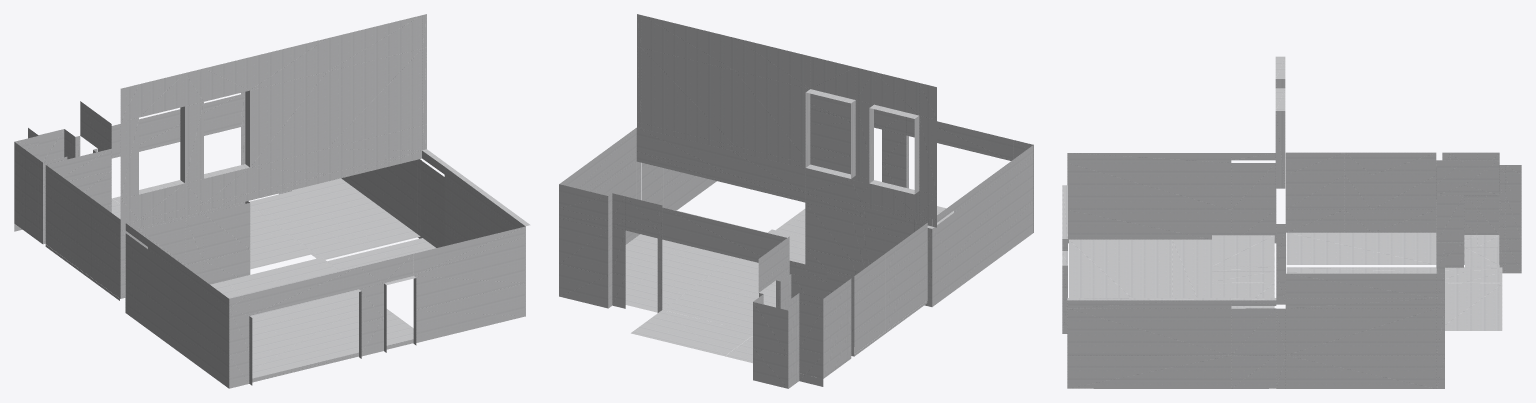
The picture shows the model from 3 angles, left to right: view 1: azimuth 30°, elevation 25°; view 2: azimuth 150°, elevation 25°; view 3: azimuth 270°, elevation 25°; orthographic projection. The views are drawn at different scales.
Parts seen in each view (by area): view 1: Hover_Muro_C_Ext_Patio_Arriba_MT_Hover_Muro_C_Ext_Patio_Arri, Hover_Muro_C_Ext_Patio_Atras_UVa_MT_Hover_Muro_C_Ext_Patio_A, Hover_Muro_C_Ext_Patio_Izq_UVa_MT_Hover_Muro_C_Ext_Patio_Izq, Hover_Piso_C_Ext_Cochera_UVb_MT_Hover_Piso_C_Ext_Cochera_UVb, Hover_Piso_C_Int_Sala_UVb_MT_Hover_Piso_C_Int_Sala_UVb_0, Hover_Muro_C_Int_Cocina_Front_UVa_MT_Hover_Muro_C_Int_Cocina, Hover_Muro_C_Ext_Patio_Der_UVa_MT_Hover_Muro_C_Ext_Patio_Der, Hover_Muro_C_Ext_Patio_Front_UVa_MT_Hover_Muro_C_Ext_Patio_F, Hover_Piso_C_Ext_Pasillo_UVb_MT_Hover_Piso_C_Ext_Pasillo_UVb, Hover_Muro_C_Int_Sala_Der_UVa_MT_Hover_Muro_C_Int_Sala_Der_U, Hover_Muro_C_Int_Comedor_Front_UVa_MT_Hover_Muro_C_Int_Comed, Hover_Piso_C_Int_Banio2_UVb_MT_Hover_Piso_C_Int_Banio2_UVb_0 (+5 smaller); view 2: Hover_Muro_C_Ext_Patio_Arriba_MT_Hover_Muro_C_Ext_Patio_Arri, Hover_Muro_C_Int_Comedor_Atras_UVa_MT_Hover_Muro_C_Int_Comed, Hover_Muro_C_Ext_Patio_Izq_UVa_MT_Hover_Muro_C_Ext_Patio_Izq, Hover_Muro_C_Ext_Patio_Atras_UVa_MT_Hover_Muro_C_Ext_Patio_A, Hover_Muro_C_Int_Cocina_Front_UVa_MT_Hover_Muro_C_Int_Cocina, Hover_Muro_C_Int_Sala_Front_UVa_MT_Hover_Muro_C_Int_Sala_Fro, Hover_Piso_C_Int_Sala_UVb_MT_Hover_Piso_C_Int_Sala_UVb_0, Hover_Piso_C_Int_Comedor_UVb_MT_Hover_Piso_C_Int_Comedor_UVb, Hover_Muro_C_Int_Sala_Front2_UVa_MT_Hover_Muro_C_Int_Sala_Fr, Hover_Muro_C_Int_Comedor_Front_UVa_MT_Hover_Muro_C_Int_Comed, Hover_Muro_C_Int_Sala_Der_UVa_MT_Hover_Muro_C_Int_Sala_Der_U, Hover_Muro_C_Int_Banio_Der2_UVa_MT_Hover_Muro_C_Int_Banio_De (+11 smaller); view 3: Hover_Muro_C_Int_Sala_Der_UVa_MT_Hover_Muro_C_Int_Sala_Der_U, Hover_Muro_C_Ext_Patio_Der_UVa_MT_Hover_Muro_C_Ext_Patio_Der, Hover_Muro_C_Ext_Patio_Izq_UVa_MT_Hover_Muro_C_Ext_Patio_Izq, Hover_Muro_C_Int_Cocina_Front_UVa_MT_Hover_Muro_C_Int_Cocina, Hover_Piso_C_Ext_Cochera_UVb_MT_Hover_Piso_C_Ext_Cochera_UVb, Hover_Piso_C_Int_Cocina_UVb_MT_Hover_Piso_C_Int_Cocina_UVb_0, Hover_Muro_C_Int_Pasillo_Izq_UVa_MT_Hover_Muro_C_Int_Pasillo, Hover_Piso_C_Ext_Pasillo_UVb_MT_Hover_Piso_C_Ext_Pasillo_UVb, Hover_Piso_C_Ext_Terraza_UVb_MT_Hover_Piso_C_Ext_Terraza_UVb, Hover_Piso_C_Int_Banio2_UVb_MT_Hover_Piso_C_Int_Banio2_UVb_0, Hover_Piso_C_Int_Comedor_UVb_MT_Hover_Piso_C_Int_Comedor_UVb, Hover_Muro_C_Int_Banio_Der_UVa_MT_Hover_Muro_C_Int_Banio_Der (+5 smaller).
Boxes of the visible parts, <box> form: Hover_Muro_C_Ext_Patio_Arriba_MT_Hover_Muro_C_Ext_Patio_Arri: <box>120,14,426,231</box>; Hover_Muro_C_Ext_Patio_Atras_UVa_MT_Hover_Muro_C_Ext_Patio_A: <box>229,226,525,388</box>; Hover_Muro_C_Ext_Patio_Izq_UVa_MT_Hover_Muro_C_Ext_Patio_Izq: <box>125,223,229,388</box>; Hover_Piso_C_Ext_Cochera_UVb_MT_Hover_Piso_C_Ext_Cochera_UVb: <box>252,292,413,382</box>; Hover_Piso_C_Int_Sala_UVb_MT_Hover_Piso_C_Int_Sala_UVb_0: <box>249,178,420,259</box>; Hover_Muro_C_Int_Cocina_Front_UVa_MT_Hover_Muro_C_Int_Cocina: <box>45,165,120,298</box>; Hover_Muro_C_Ext_Patio_Der_UVa_MT_Hover_Muro_C_Ext_Patio_Der: <box>421,149,530,316</box>; Hover_Muro_C_Ext_Patio_Front_UVa_MT_Hover_Muro_C_Ext_Patio_F: <box>125,203,250,312</box>; Hover_Piso_C_Ext_Pasillo_UVb_MT_Hover_Piso_C_Ext_Pasillo_UVb: <box>210,238,436,298</box>; Hover_Muro_C_Int_Sala_Der_UVa_MT_Hover_Muro_C_Int_Sala_Der_U: <box>341,159,421,238</box>; Hover_Muro_C_Int_Comedor_Front_UVa_MT_Hover_Muro_C_Int_Comed: <box>111,94,240,158</box>; Hover_Piso_C_Int_Banio2_UVb_MT_Hover_Piso_C_Int_Banio2_UVb_0: <box>14,142,42,243</box>; Hover_Muro_C_Ext_Patio_Arriba_MT_Hover_Muro_C_Ext_Patio_Arri: <box>637,14,936,227</box>; Hover_Muro_C_Int_Comedor_Atras_UVa_MT_Hover_Muro_C_Int_Comed: <box>636,127,862,275</box>; Hover_Muro_C_Ext_Patio_Izq_UVa_MT_Hover_Muro_C_Ext_Patio_Izq: <box>932,145,1033,306</box>; Hover_Muro_C_Ext_Patio_Atras_UVa_MT_Hover_Muro_C_Ext_Patio_A: <box>810,93,1033,232</box>; Hover_Muro_C_Int_Cocina_Front_UVa_MT_Hover_Muro_C_Int_Cocina: <box>854,223,927,353</box>; Hover_Muro_C_Int_Sala_Front_UVa_MT_Hover_Muro_C_Int_Sala_Fro: <box>559,184,608,308</box>; Hover_Piso_C_Int_Sala_UVb_MT_Hover_Piso_C_Int_Sala_UVb_0: <box>625,234,734,312</box>; Hover_Piso_C_Int_Comedor_UVb_MT_Hover_Piso_C_Int_Comedor_UVb: <box>663,257,775,363</box>; Hover_Muro_C_Int_Sala_Front2_UVa_MT_Hover_Muro_C_Int_Sala_Fr: <box>608,193,662,312</box>; Hover_Muro_C_Int_Comedor_Front_UVa_MT_Hover_Muro_C_Int_Comed: <box>662,207,786,262</box>; Hover_Muro_C_Int_Sala_Der_UVa_MT_Hover_Muro_C_Int_Sala_Der_U: <box>559,128,641,244</box>; Hover_Muro_C_Int_Banio_Der2_UVa_MT_Hover_Muro_C_Int_Banio_De: <box>788,293,823,388</box>; Hover_Muro_C_Int_Sala_Der_UVa_MT_Hover_Muro_C_Int_Sala_Der_U: <box>1276,273,1444,388</box>; Hover_Muro_C_Ext_Patio_Der_UVa_MT_Hover_Muro_C_Ext_Patio_Der: <box>1067,298,1276,388</box>; Hover_Muro_C_Ext_Patio_Izq_UVa_MT_Hover_Muro_C_Ext_Patio_Izq: <box>1067,153,1276,243</box>; Hover_Muro_C_Int_Cocina_Front_UVa_MT_Hover_Muro_C_Int_Cocina: <box>1285,152,1436,232</box>; Hover_Piso_C_Ext_Cochera_UVb_MT_Hover_Piso_C_Ext_Cochera_UVb: <box>1069,239,1211,297</box>; Hover_Piso_C_Int_Cocina_UVb_MT_Hover_Piso_C_Int_Cocina_UVb_0: <box>1286,232,1436,264</box>; Hover_Muro_C_Int_Pasillo_Izq_UVa_MT_Hover_Muro_C_Int_Pasillo: <box>1436,160,1499,267</box>; Hover_Piso_C_Ext_Pasillo_UVb_MT_Hover_Piso_C_Ext_Pasillo_UVb: <box>1212,235,1274,308</box>; Hover_Piso_C_Ext_Terraza_UVb_MT_Hover_Piso_C_Ext_Terraza_UVb: <box>1445,284,1502,330</box>; Hover_Piso_C_Int_Banio2_UVb_MT_Hover_Piso_C_Int_Banio2_UVb_0: <box>1442,152,1499,247</box>; Hover_Piso_C_Int_Comedor_UVb_MT_Hover_Piso_C_Int_Comedor_UVb: <box>1286,267,1502,283</box>; Hover_Muro_C_Int_Banio_Der_UVa_MT_Hover_Muro_C_Int_Banio_Der: <box>1499,193,1521,273</box>.
Size of the model in its own units: 13 by 9.15 by 16.78.
27 materials, 27 textured.
